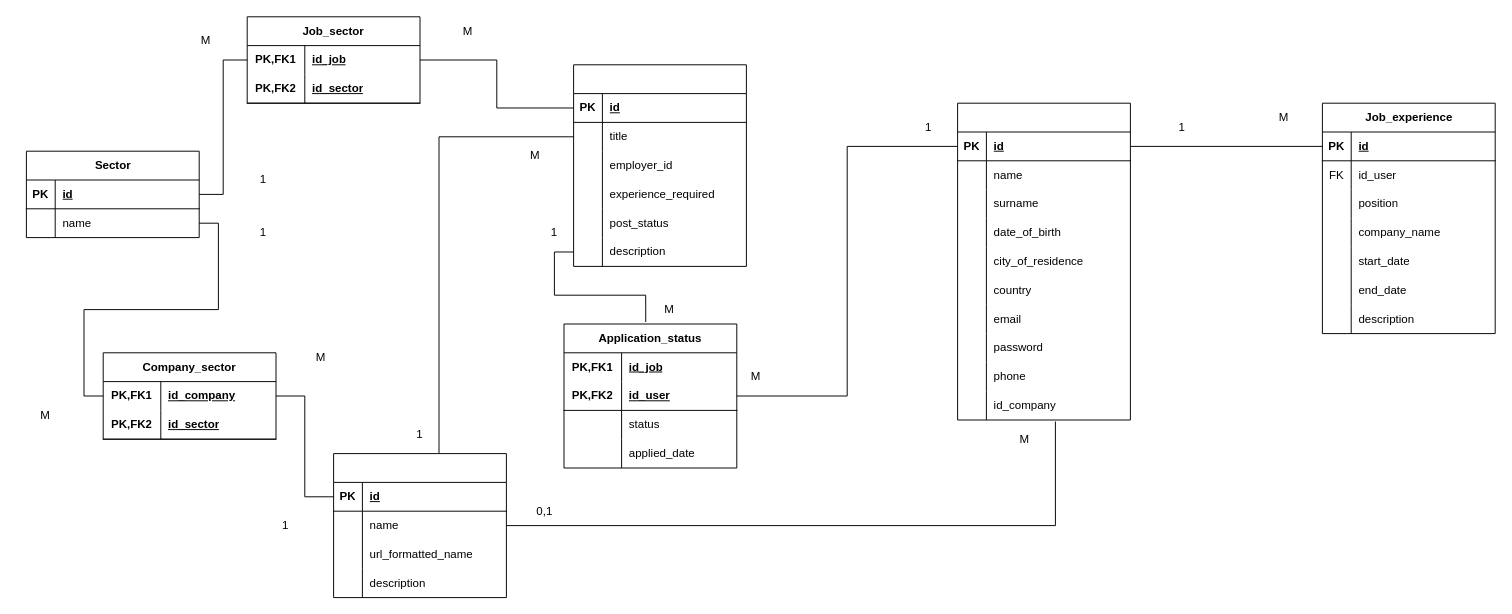
Image size: 1512x614. Some labels were removed from this diagram. The box of each missing label's shape, as (x1, y1, x2, y2) in pixels:
Company: (333, 453, 506, 598)
Job_post: (573, 64, 746, 266)
User: (957, 102, 1130, 420)
